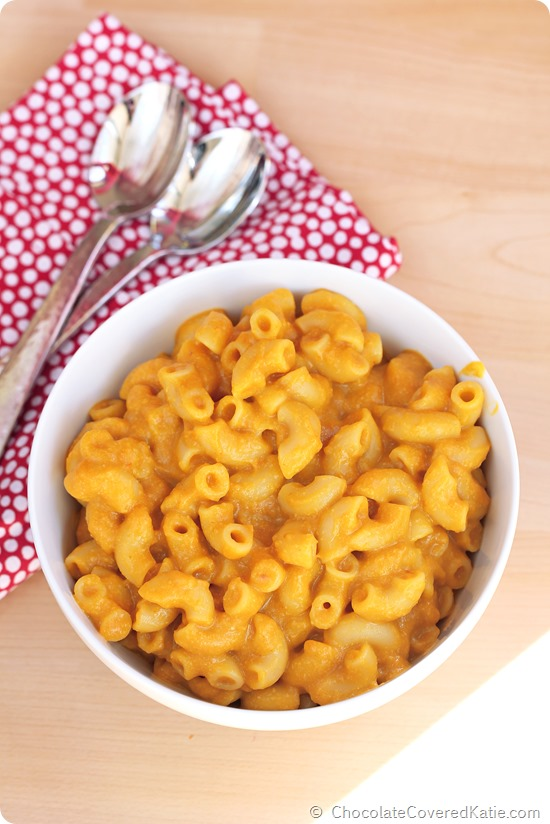macncheese: (63, 282, 490, 711)
